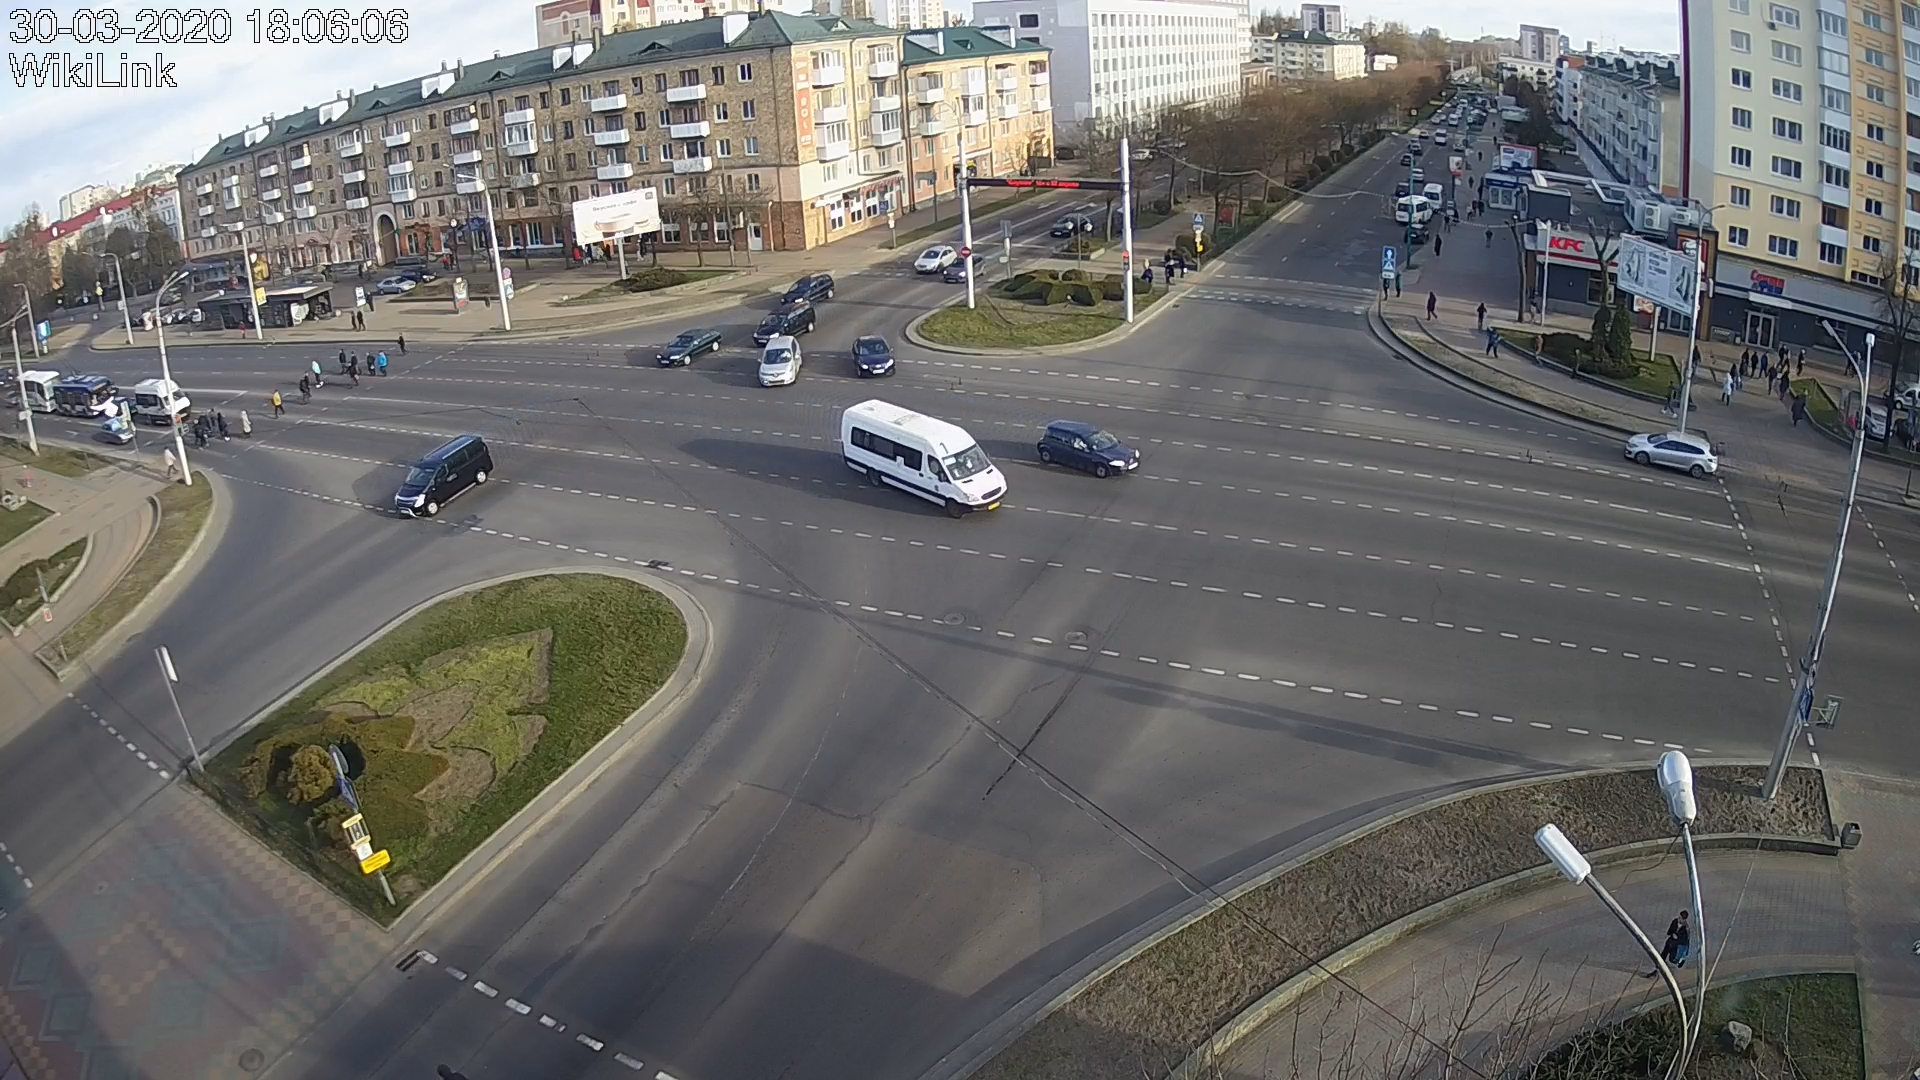car: (840, 400, 1007, 520), (394, 434, 495, 520), (1036, 419, 1141, 479), (1625, 430, 1720, 479), (753, 301, 818, 345), (655, 328, 723, 367), (135, 378, 190, 422), (758, 336, 803, 386), (851, 335, 895, 378), (782, 274, 833, 307), (943, 253, 986, 284), (914, 245, 957, 273), (1050, 212, 1091, 237)
